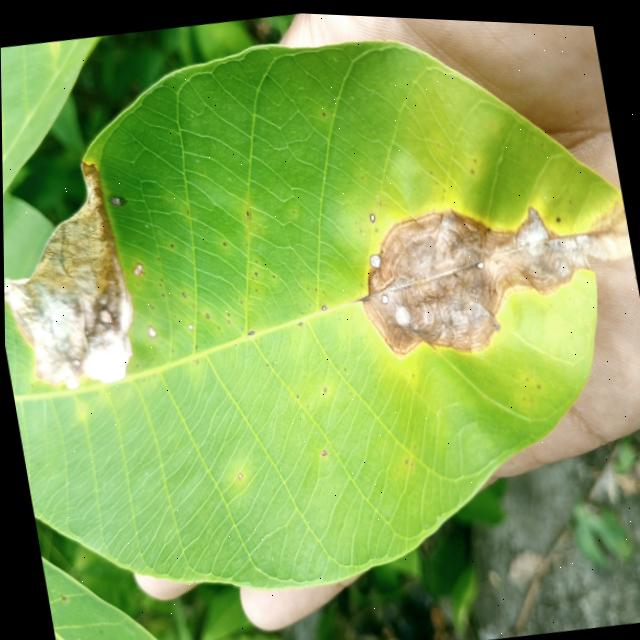Colletotrichum: (368, 249, 382, 266), (146, 322, 157, 338), (380, 289, 388, 300), (187, 320, 193, 328), (369, 209, 374, 218), (236, 469, 241, 476), (181, 289, 186, 296), (321, 302, 326, 307), (297, 317, 302, 322), (221, 239, 225, 243), (205, 311, 209, 315), (322, 384, 325, 388), (245, 209, 248, 213), (228, 318, 230, 321), (255, 269, 257, 272)
Leaf-Blight: (346, 169, 640, 367), (2, 151, 146, 401), (130, 260, 145, 275)
